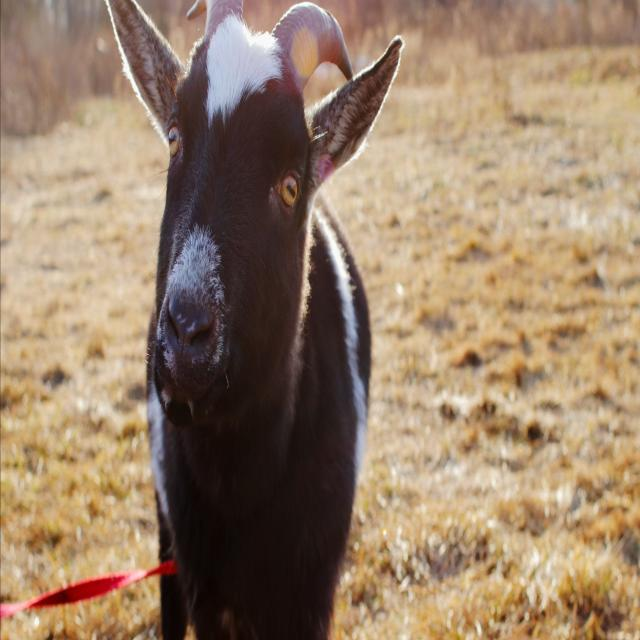Goat: (99, 0, 409, 640)
